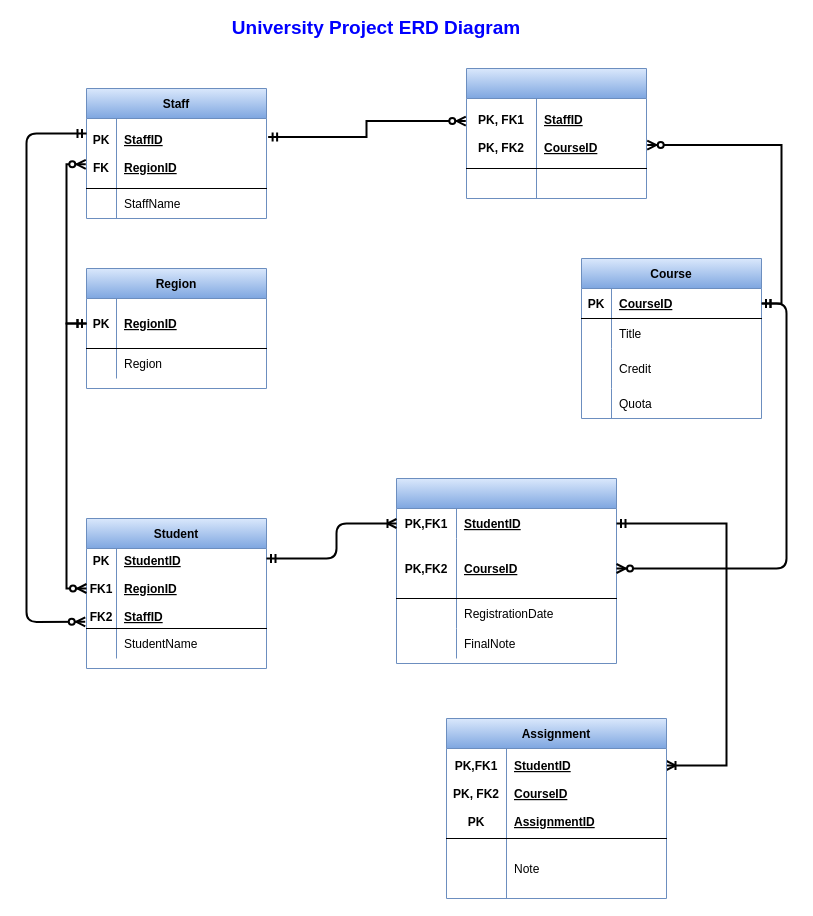
This 813x916 diagram has some shape labels left out. The box of each missing label's shape, as (x1, y1, x2, y2) in pixels:
StaffCourse: (466, 68, 646, 198)
StudentCourse: (396, 478, 616, 664)
